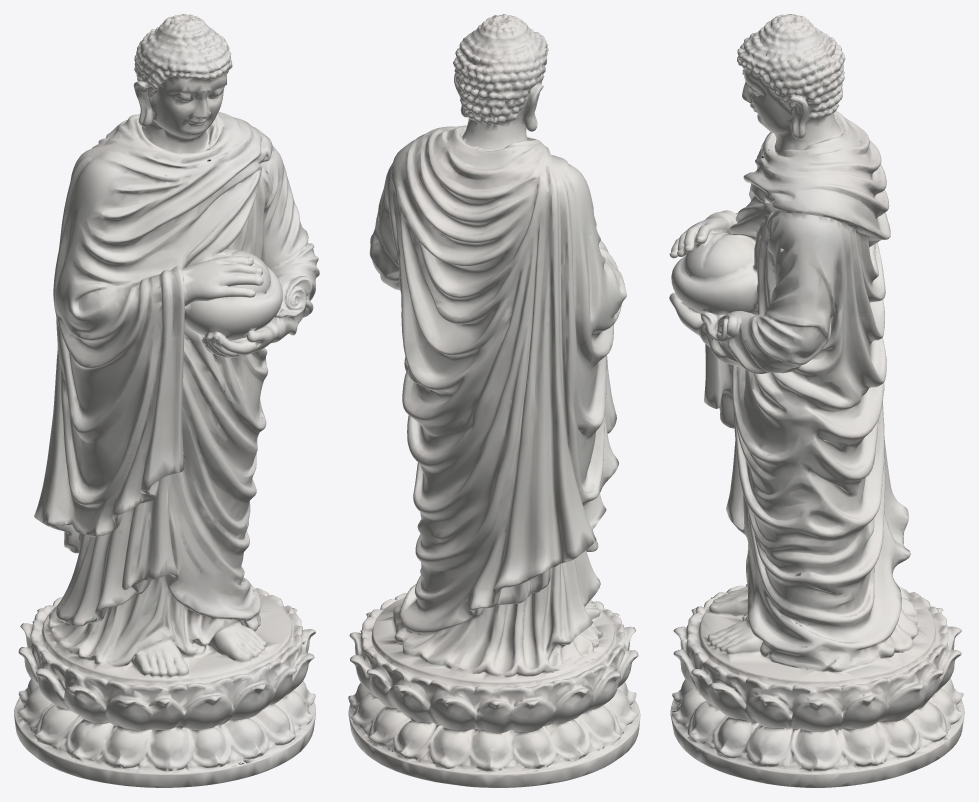
3 views of the same model, side by side, from view 1: azimuth 30°, elevation 25°; view 2: azimuth 150°, elevation 25°; view 3: azimuth 270°, elevation 25° (orthographic). The views are drawn at different scales.
Visible parts, largest first — view 1: owner-collection20-20; view 2: owner-collection20-20; view 3: owner-collection20-20.
Part boxes in pixels (x1,y1,x2,y2): owner-collection20-20: (14, 14, 319, 787); owner-collection20-20: (348, 14, 640, 787); owner-collection20-20: (669, 14, 964, 787).
Bounding box in the file's own units: 0.3845 × 0.9998 × 0.377.
Materials: 1 (1 with a texture image).
